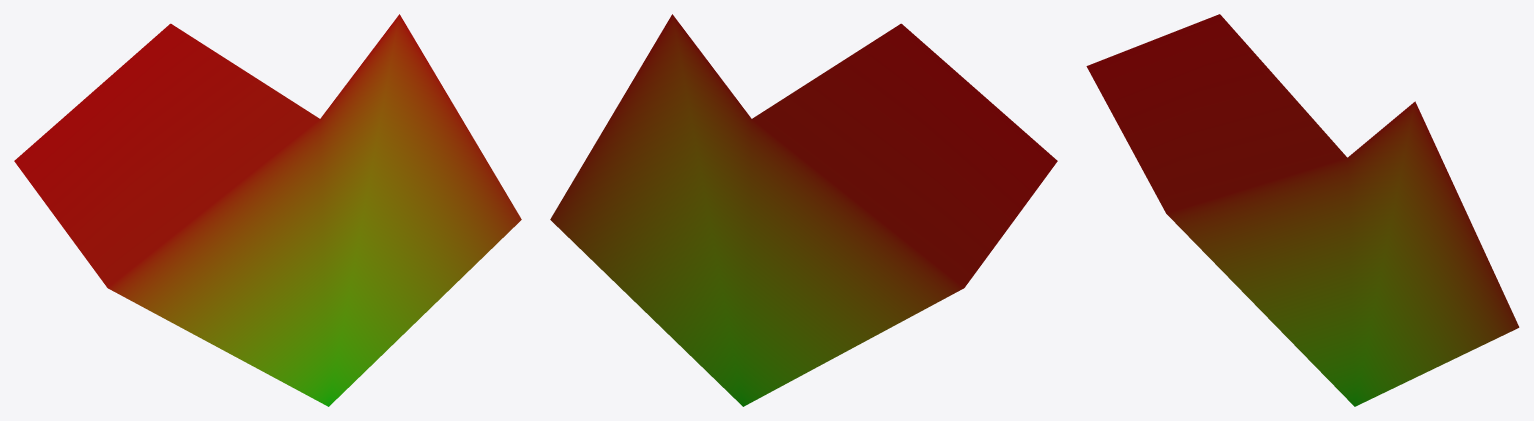
Rendered from Var5_LOD6.fbx.
3 views of the same model, side by side, from view 1: azimuth 30°, elevation 25°; view 2: azimuth 150°, elevation 25°; view 3: azimuth 330°, elevation 25° (orthographic). The views are drawn at different scales.
Visible parts, largest first — view 1: _qoey_Var5_LOD6; view 2: _qoey_Var5_LOD6; view 3: _qoey_Var5_LOD6.
Boxes of the visible parts, left/top/right/bottom form: _qoey_Var5_LOD6: left=14, top=14, right=521, bottom=406; _qoey_Var5_LOD6: left=550, top=14, right=1057, bottom=406; _qoey_Var5_LOD6: left=1086, top=14, right=1519, bottom=406.
Bounding box in the file's own units: 30.69 × 24.38 × 2.91e-06.
